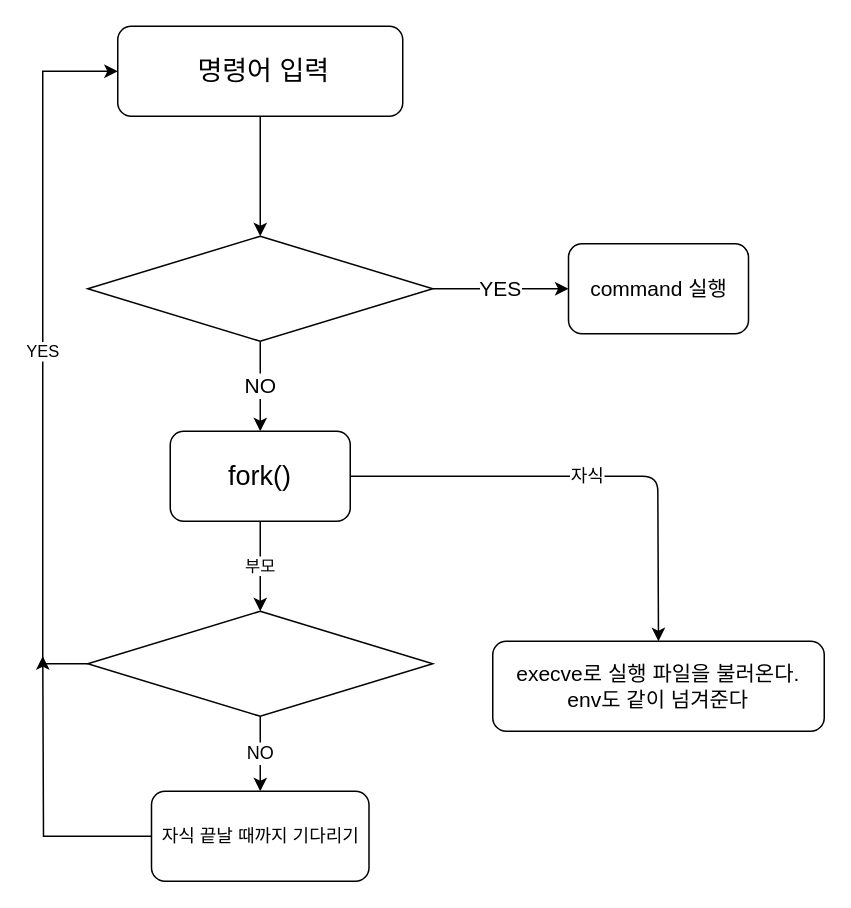
Some shapes in this 851 by 908 pixel diagram are drawn without their labels. Each missing label, with the box of its shape:
built-in commend 인가: (86, 235, 433, 341)
백그라운드 프로세스인가?: (86, 610, 433, 716)
